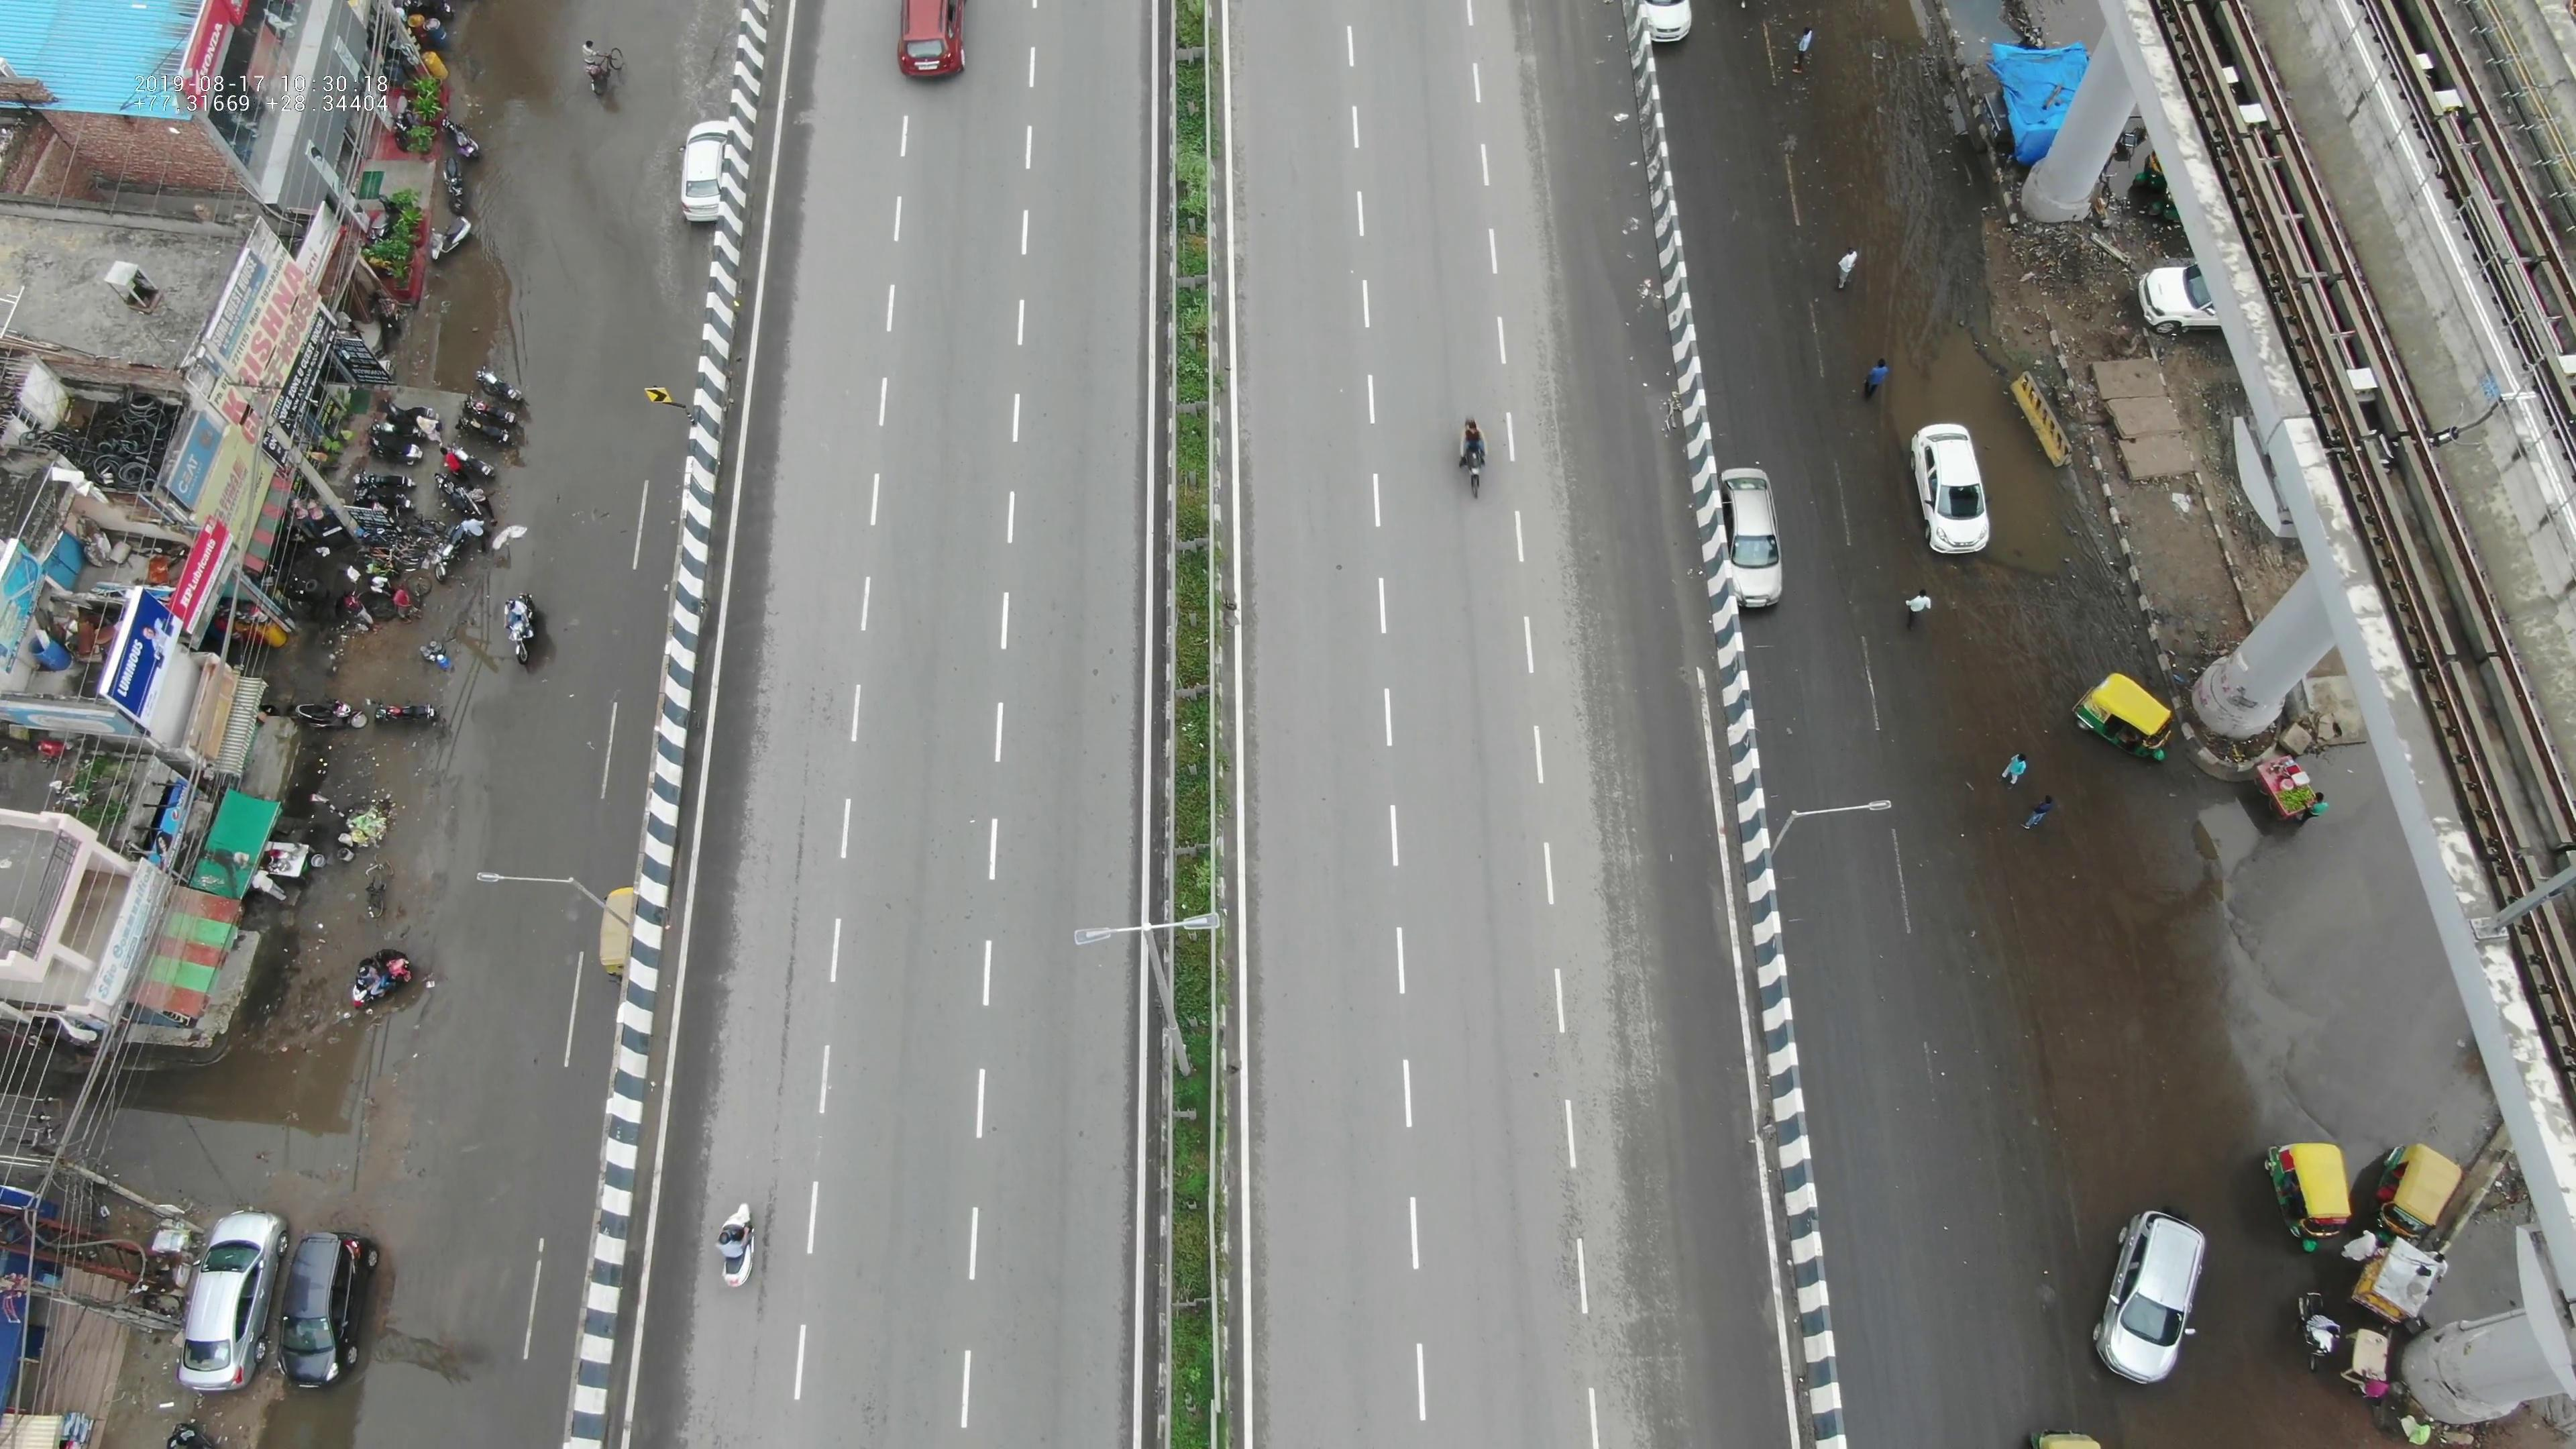Muddy_road: (2005, 849, 2217, 1136)
Waterlogging: (1845, 88, 2054, 556), (460, 32, 566, 364), (115, 1077, 363, 1200)
